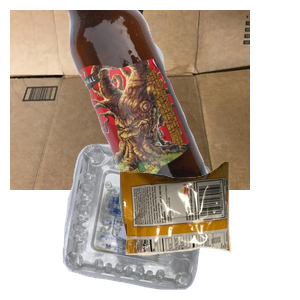cardboard: (10, 10, 250, 190)
glass: (65, 10, 300, 190)
plastic: (60, 141, 263, 300)
trash: (117, 159, 300, 300)
